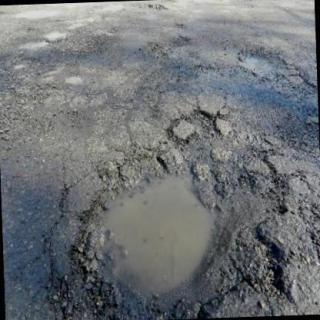pothole: (83, 108, 293, 320)
